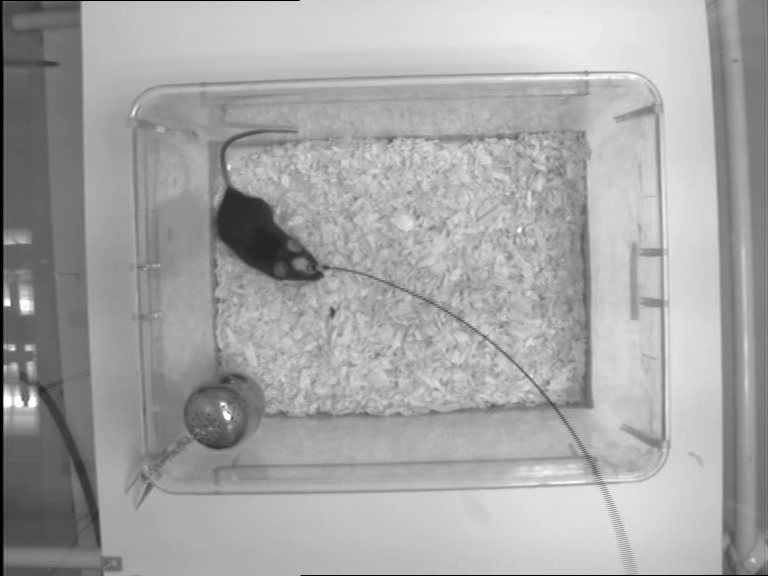mice: (214, 126, 326, 284)
